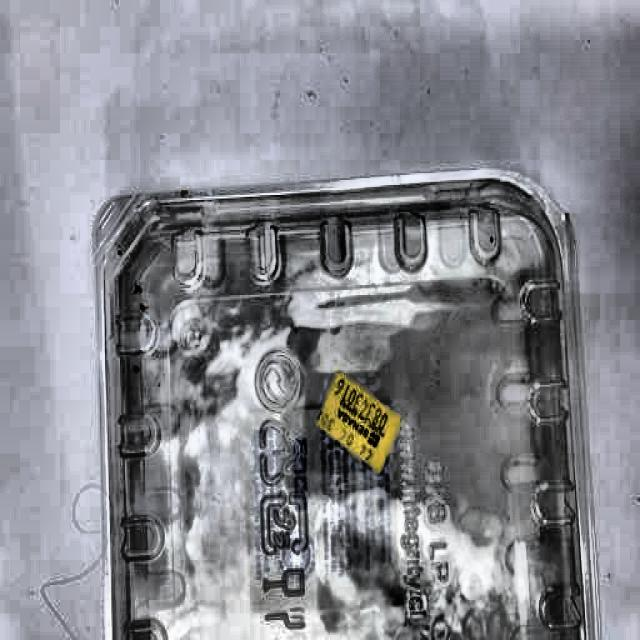plastic: (92, 171, 606, 640)
